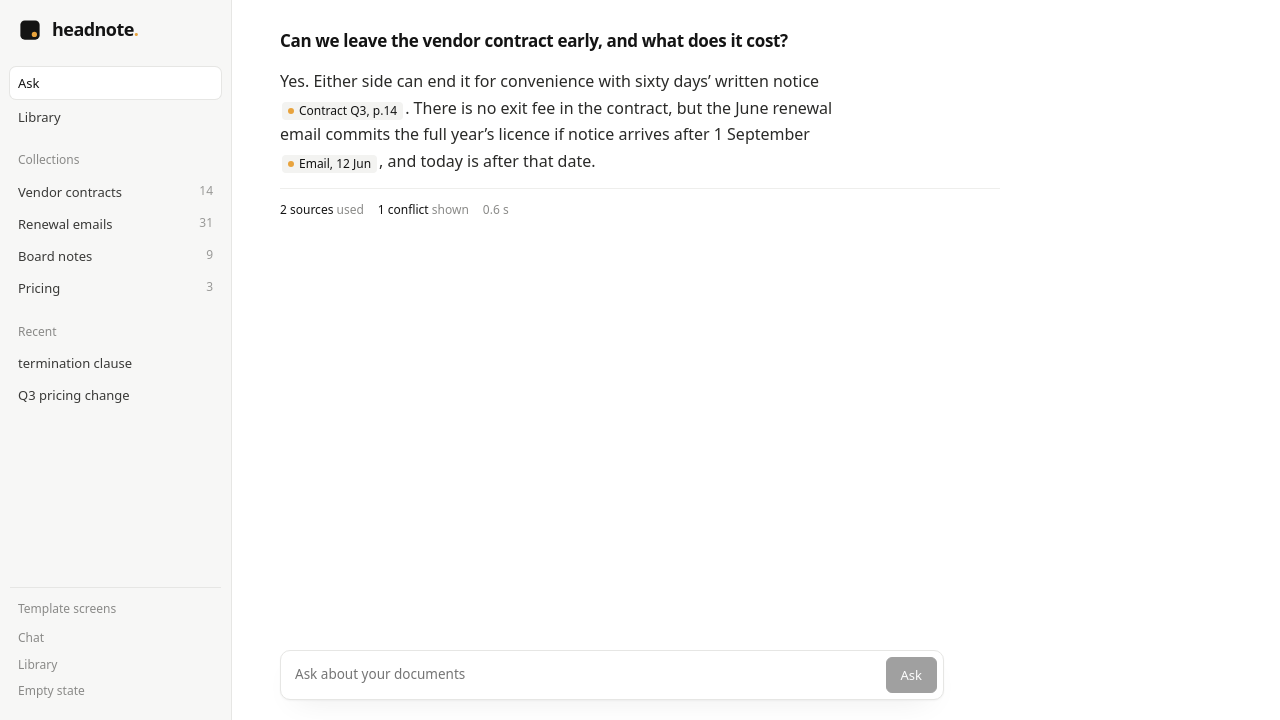
Test: App › appends an answer from the client when a question is asked
Expected: the element named "Conversation" is shown, [280,29,1000,220]
Type "What renews in June?" into the field named "Question" at x=582, y=675, box [287,657,878,693]
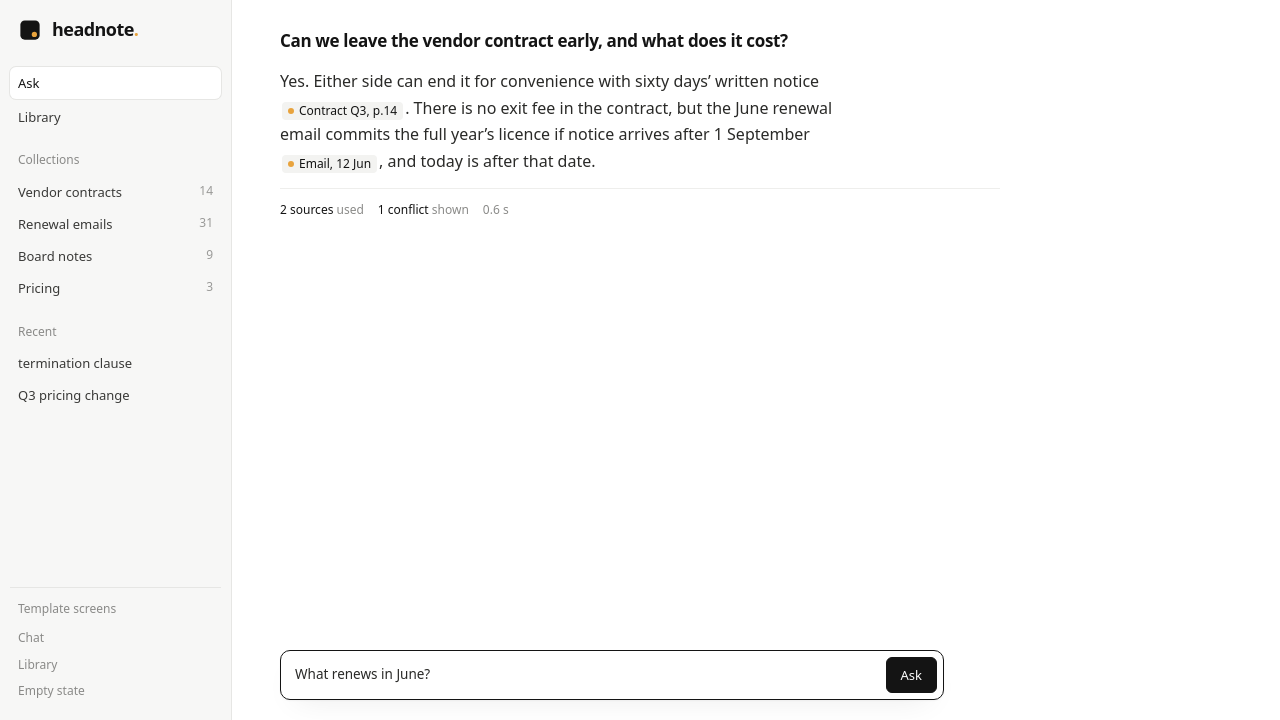
Click the button "Ask" at x=911, y=675, box [886,657,937,693]
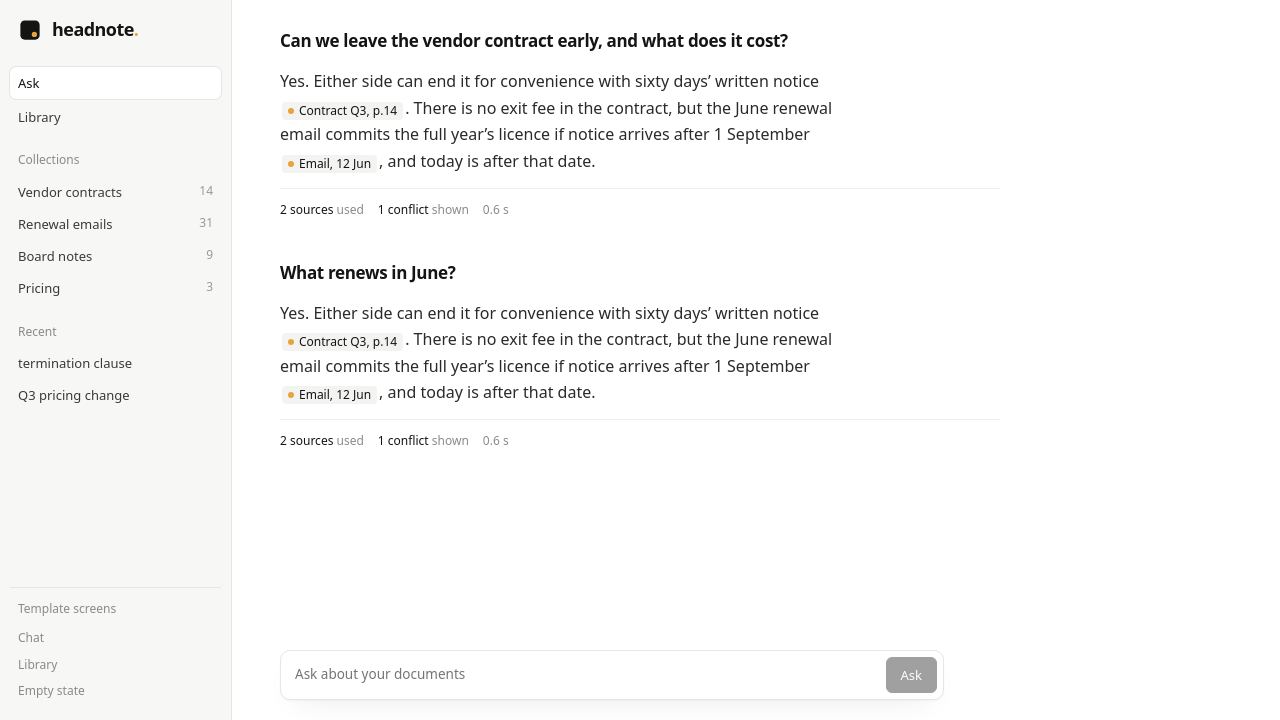
Expected: the heading "What renews in June?" is shown, [280,260,456,284]
